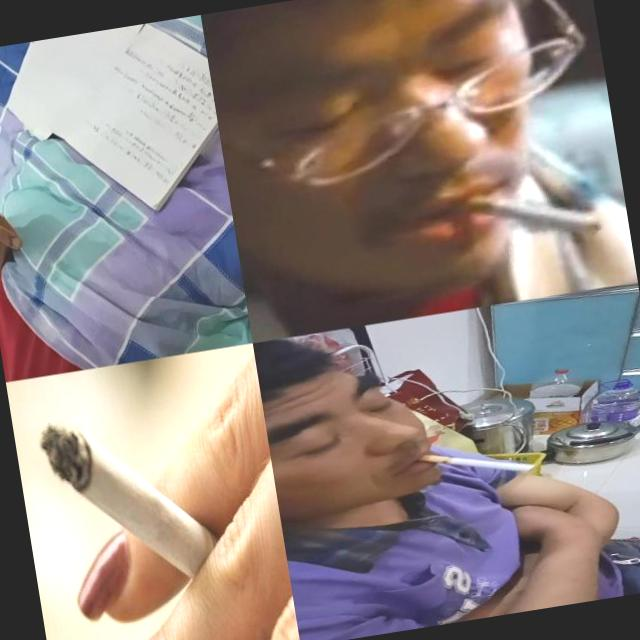cigarette: (35, 392, 262, 638), (448, 169, 605, 256), (416, 438, 535, 489)
